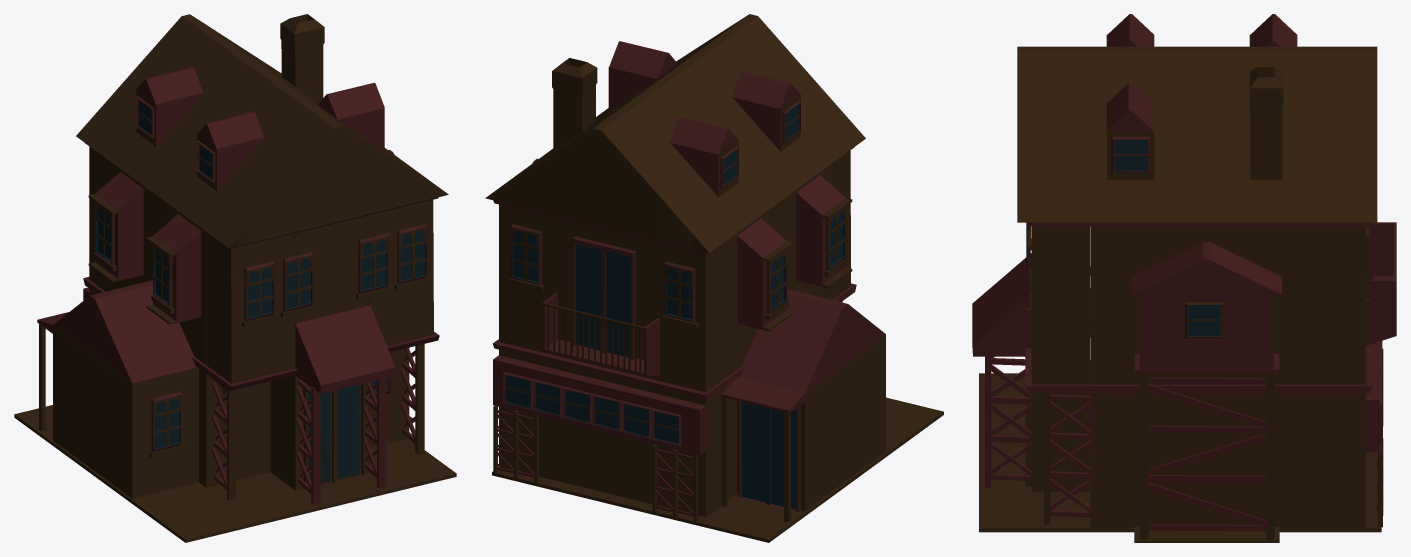
The model's file is Filler Building_D.fbx.
The picture shows the model from 3 angles, left to right: view 1: azimuth 30°, elevation 25°; view 2: azimuth 150°, elevation 25°; view 3: azimuth 270°, elevation 25°; orthographic projection. The views are drawn at different scales.
Visible parts, largest first — view 1: polySurface29, polySurface36, polySurface34, polySurface24, polySurface26, polySurface25, polySurface35, polySurface260 (×2), polySurface28, polySurface27, polySurface10, polySurface416 (+15 smaller); view 2: polySurface29, polySurface24, polySurface36, polySurface35, polySurface34, polySurface260 (×2), polySurface292, polySurface46, polySurface11, polySurface295, polySurface416, polySurface330 (+19 smaller); view 3: polySurface24, polySurface29, polySurface27, polySurface406, polySurface34, polySurface177, polySurface178, polySurface28, polySurface417, polySurface89, polySurface25, polySurface369 (+11 smaller).
Boxes of the visible parts, x1,y1,x2,y2 form: polySurface29: (76, 14, 448, 248); polySurface36: (53, 325, 198, 498); polySurface34: (14, 405, 456, 542); polySurface24: (89, 146, 409, 487); polySurface26: (206, 232, 295, 383); polySurface25: (270, 215, 370, 490); polySurface35: (53, 280, 196, 383); polySurface260 (×2): (95, 171, 201, 323); polySurface28: (295, 305, 395, 393); polySurface27: (369, 199, 433, 345); polySurface10: (303, 382, 364, 489); polySurface416: (136, 67, 203, 146); polySurface29: (485, 14, 865, 252); polySurface24: (499, 169, 825, 517); polySurface36: (737, 334, 885, 511); polySurface35: (739, 289, 885, 393); polySurface34: (492, 397, 943, 542); polySurface260 (×2): (737, 175, 845, 329); polySurface292: (572, 236, 635, 360); polySurface46: (493, 355, 706, 455); polySurface11: (738, 401, 800, 511); polySurface295: (542, 293, 659, 376); polySurface416: (669, 116, 738, 196); polySurface330: (732, 71, 800, 151); polySurface24: (1090, 226, 1365, 528); polySurface29: (1017, 46, 1377, 222); polySurface27: (1031, 226, 1090, 384); polySurface406: (1140, 372, 1274, 541); polySurface34: (979, 373, 1381, 532); polySurface177: (1140, 295, 1273, 369); polySurface178: (1131, 242, 1281, 294); polySurface28: (972, 253, 1031, 356); polySurface417: (1106, 82, 1154, 180); polySurface89: (1249, 67, 1283, 179); polySurface25: (1031, 393, 1090, 491); polySurface369: (1044, 393, 1090, 524).
Bounding box in the file's own units: 3283 × 3896 × 3390.
